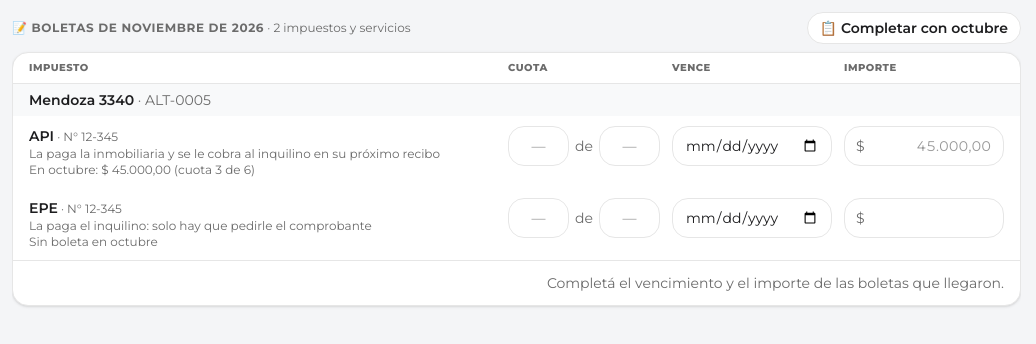
Test: prueba en Alteva del 7/10/2026 › regla 51: una cuota mayor que el total dice eso, no «van los dos números»
In the field named "Importe de EPE de Mendoza 3340": (924, 218) [844,198,1004,238], type "30.000"
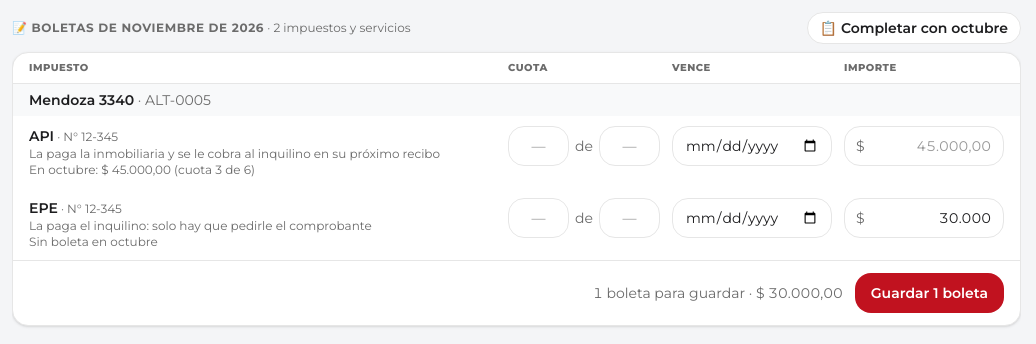
In the date field named "Vencimiento de EPE de Mendoza 3340": (752, 218) [672,198,832,238], type "2026-11-10"
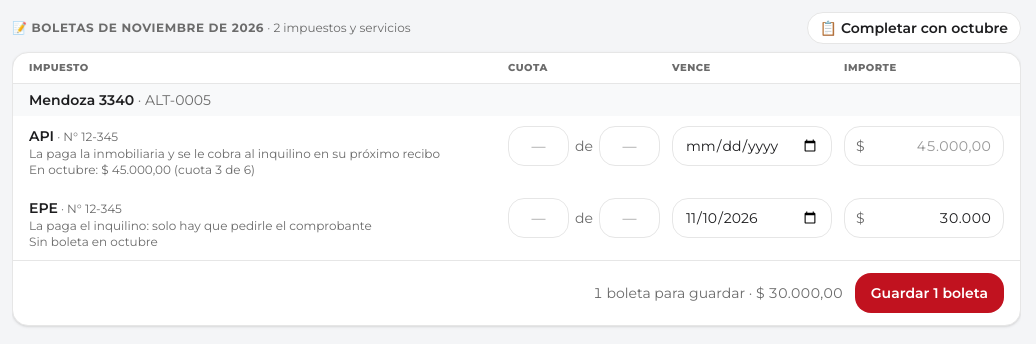
In the field named "Cuota de EPE de Mendoza 3340": (538, 218) [508,198,569,238], type "13"
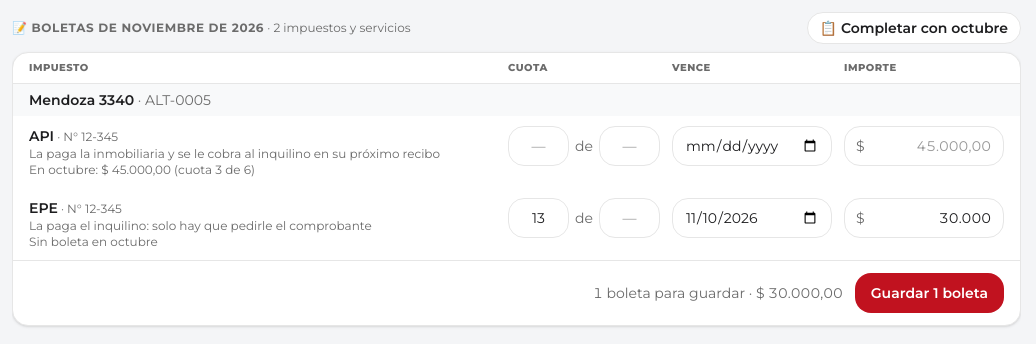
In the field named "Total de cuotas de EPE de Mendoza 3340": (630, 218) [599,198,660,238], type "12"
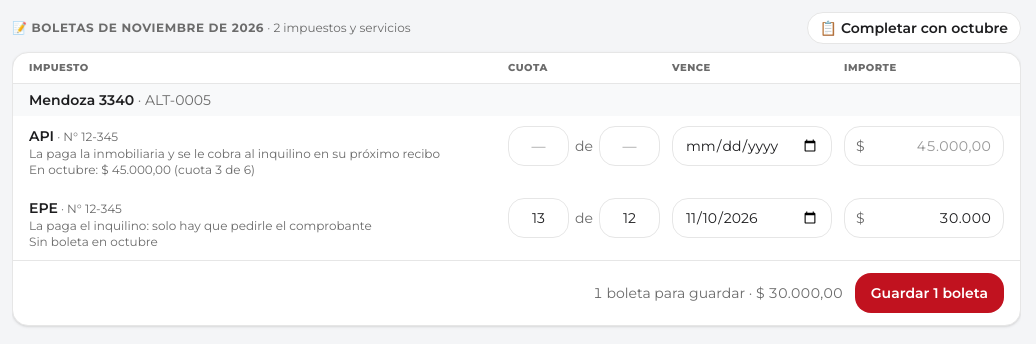
Click the button "Guardar 1 boleta": (929, 293) [855,273,1004,313]
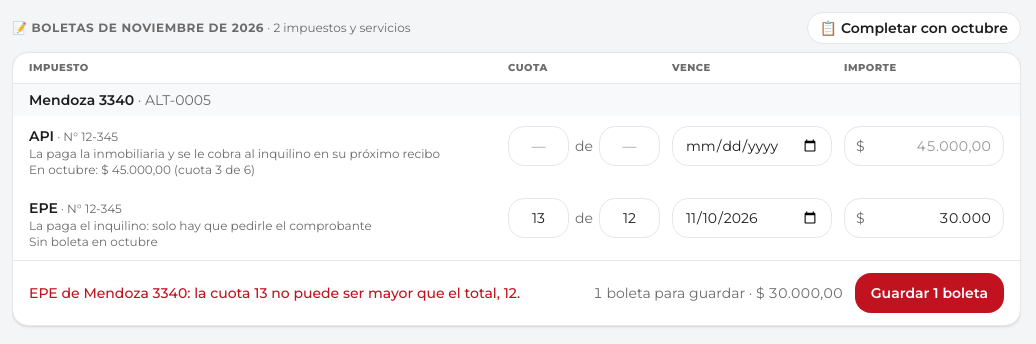
expect the message reads "EPE de Mendoza 3340: la cuota 13 no puede ser mayor que el total, 12.": met, box [29,284,520,302]
